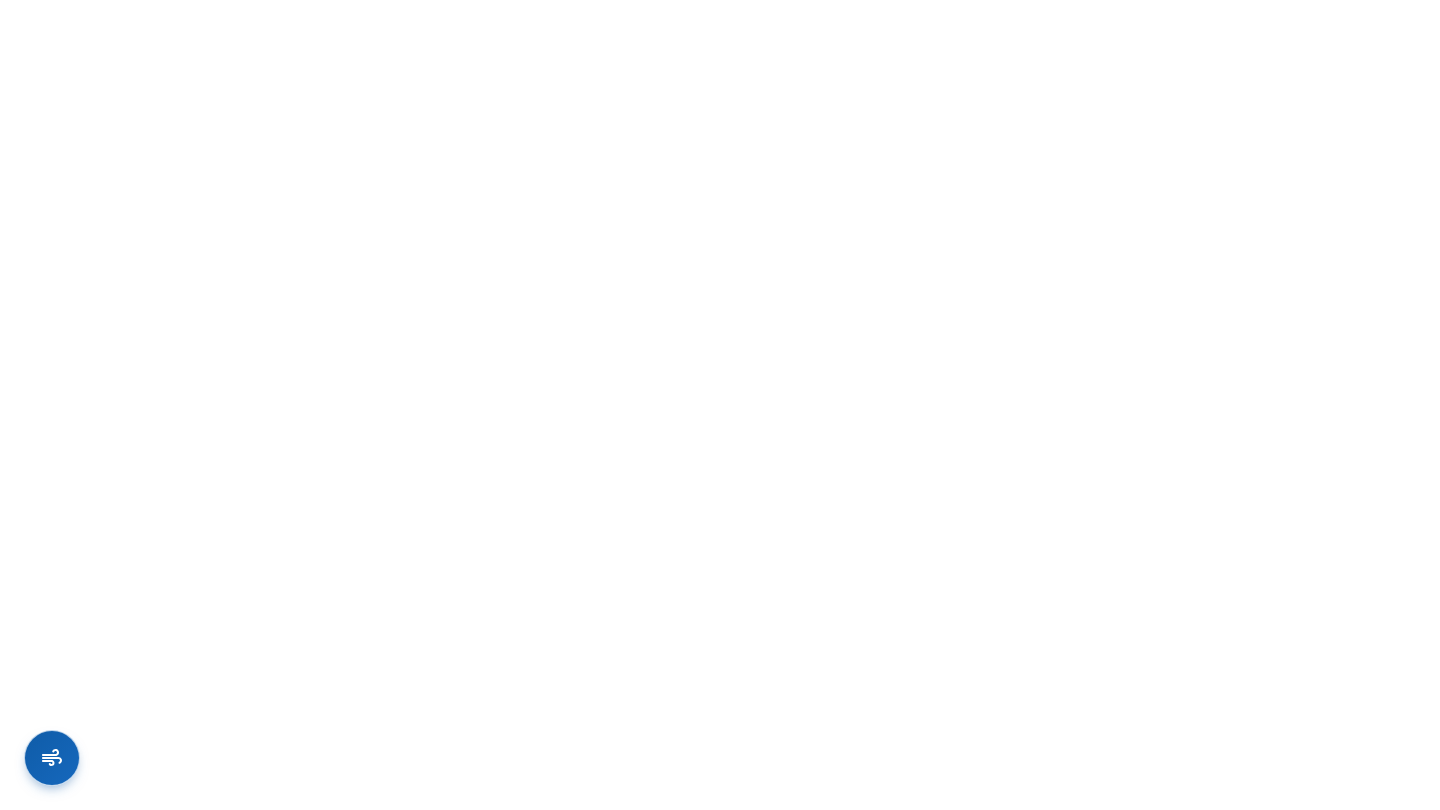
Test: launcher toggles a non-modal panel with an empty greeting
The width and height of the screenshot is (1440, 810).
Later steps or results of the test are not shown.
Click the button named "ג׳ני – עוזרת AI".
click(52, 758)  # box [24,730,80,786]
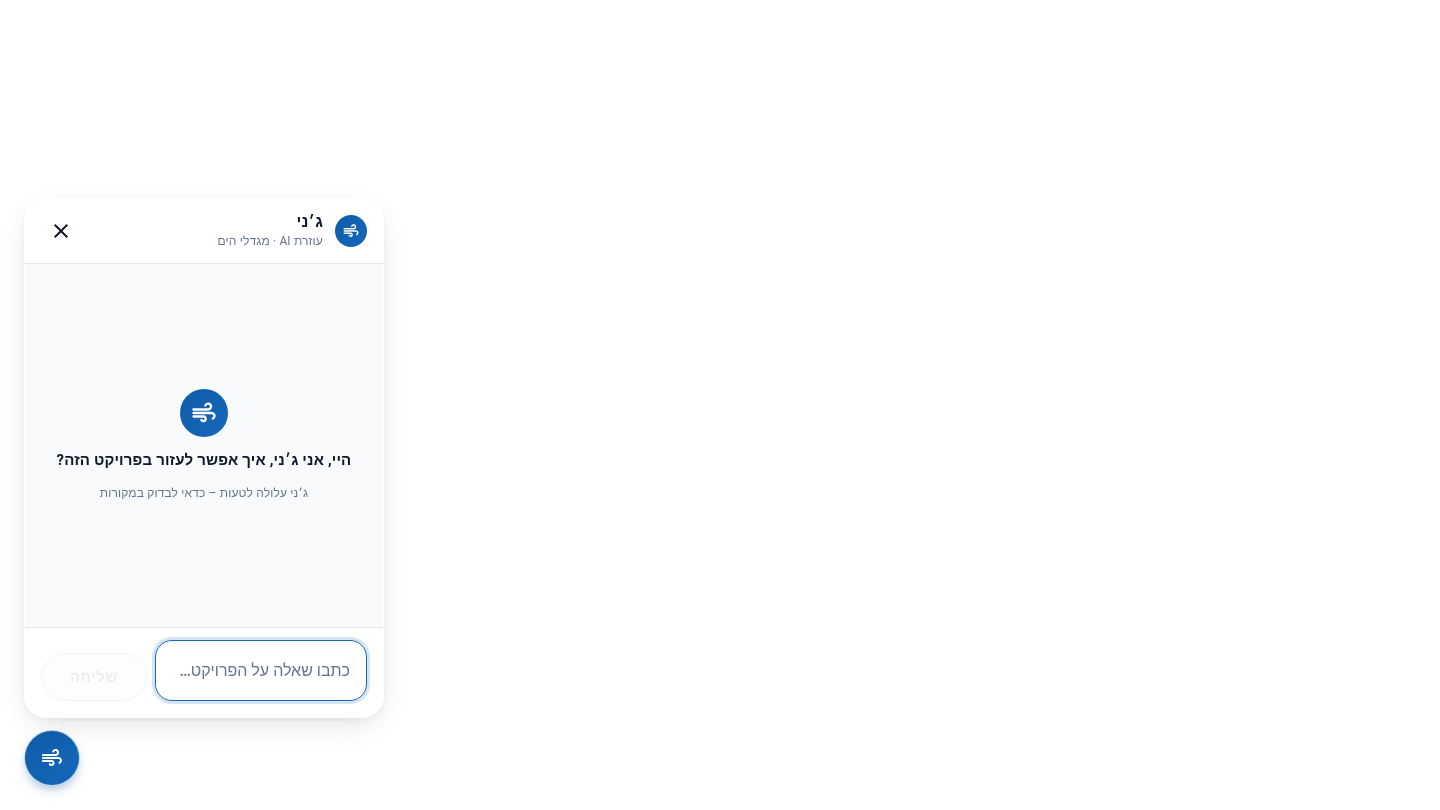
Check: the text "היי, אני ג׳ני, איך אפשר לעזור בפרויקט הזה?" is shown, box [57,449,351,472]
Check: the text "מגדלי הים" is shown, box [217,234,270,248]
